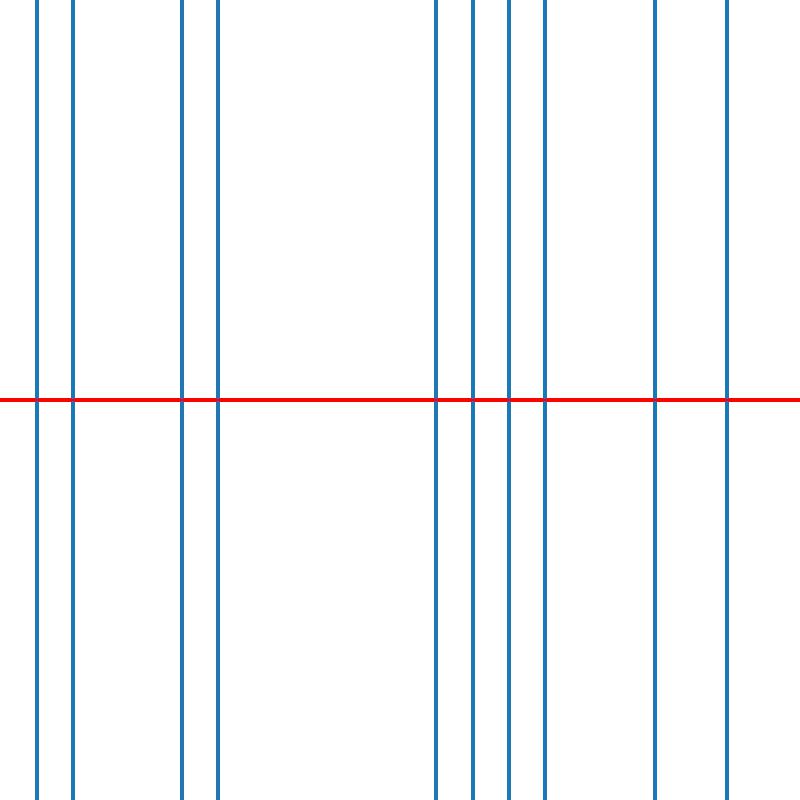root: (32, 396, 40, 404), (541, 396, 549, 404), (650, 396, 658, 404), (432, 396, 440, 404), (178, 396, 185, 404), (469, 396, 476, 404), (505, 396, 512, 404), (723, 396, 730, 404), (214, 396, 221, 404), (69, 396, 76, 404)
